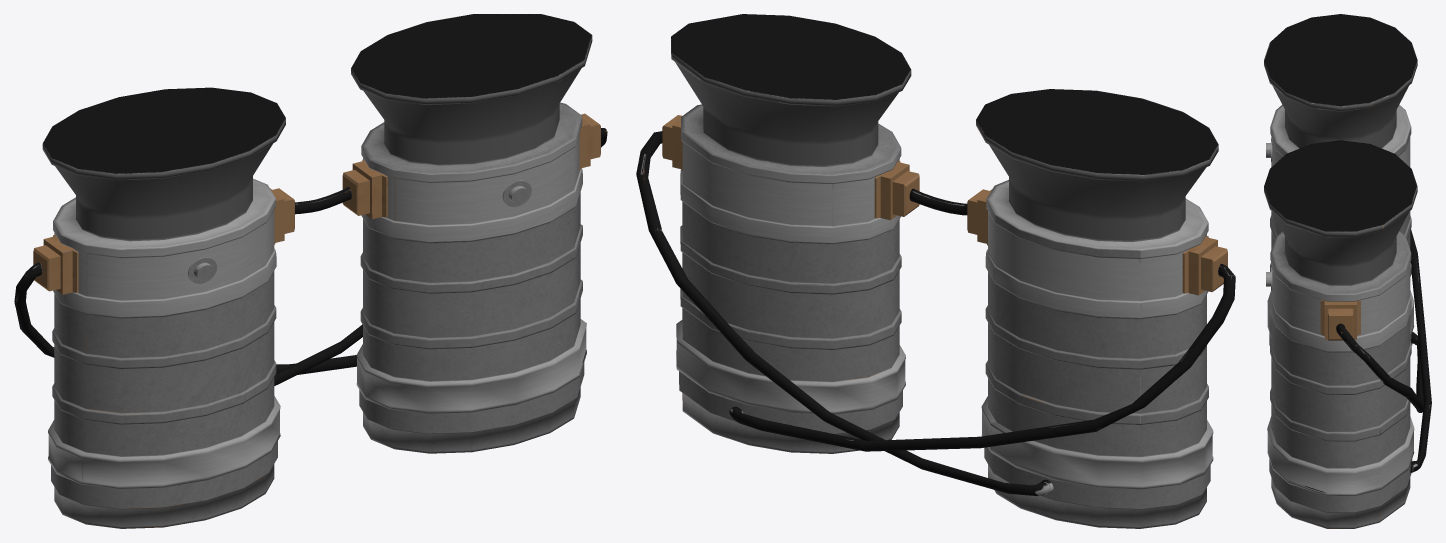
File: Oxygens.fbx
The picture shows the model from 3 angles, left to right: view 1: azimuth 30°, elevation 25°; view 2: azimuth 150°, elevation 25°; view 3: azimuth 270°, elevation 25°; orthographic projection. The views are drawn at different scales.
Parts seen in each view (by area): view 1: Oxygens; view 2: Oxygens; view 3: Oxygens.
Boxes of the visible parts, x1,y1,x2,y2 form: Oxygens: [14, 14, 607, 528]; Oxygens: [636, 14, 1235, 528]; Oxygens: [1264, 14, 1431, 528].
Bounding box in the file's own units: 95.23 × 55.18 × 27.85.
